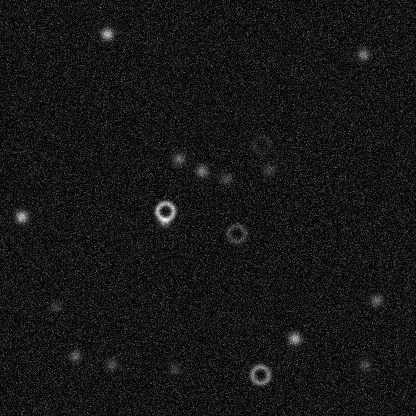Ring: (153, 199, 177, 223), (224, 221, 248, 245), (248, 362, 272, 386), (249, 132, 273, 156)
Spot: (356, 356, 372, 372), (218, 170, 234, 186), (368, 292, 384, 308), (170, 150, 186, 166), (99, 26, 115, 42), (67, 347, 83, 363), (166, 360, 182, 376), (13, 208, 29, 224), (47, 298, 63, 314), (193, 162, 209, 178), (103, 356, 119, 372), (260, 161, 276, 177), (355, 46, 371, 62), (286, 330, 302, 346), (155, 213, 171, 229)
